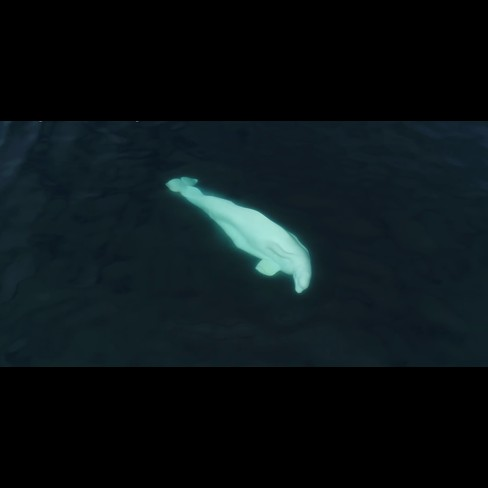beluga: (149, 166, 319, 300)
